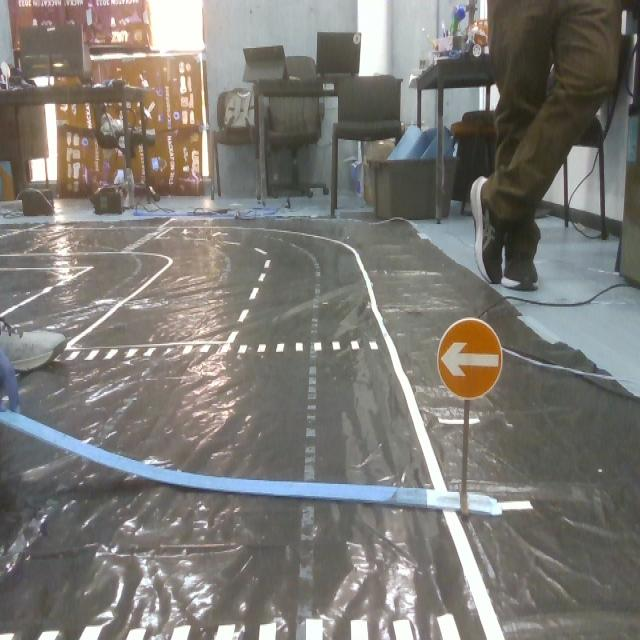forward: (432, 315, 502, 401)
